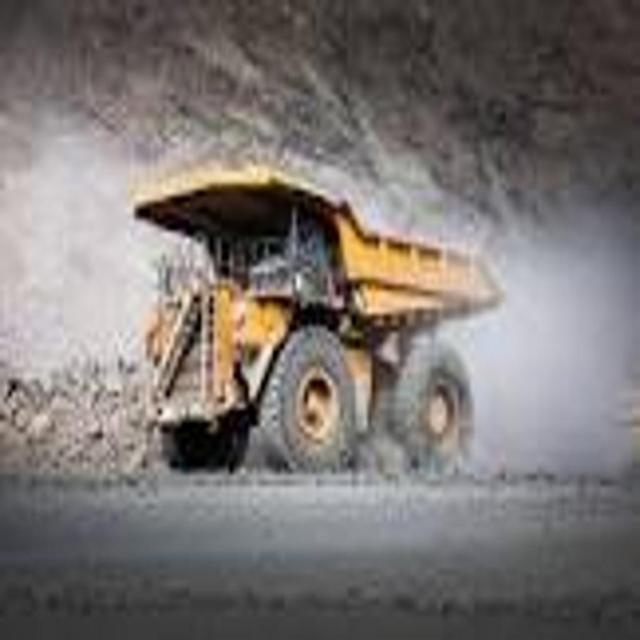dump_truck: (131, 153, 507, 489)
